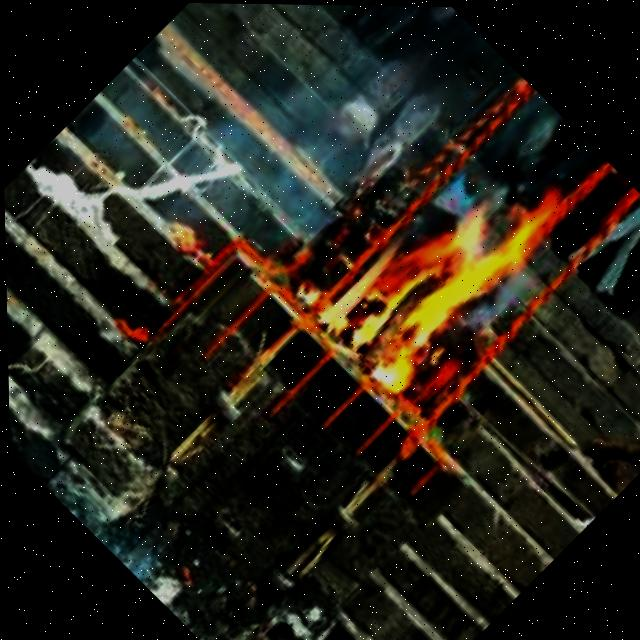Fire: (303, 127, 576, 399)
